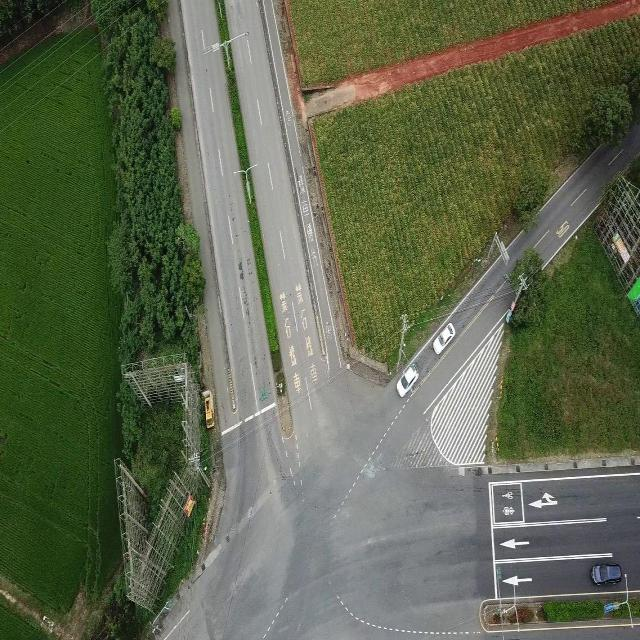car: (396, 361, 419, 398), (432, 322, 456, 355), (590, 562, 622, 586)
